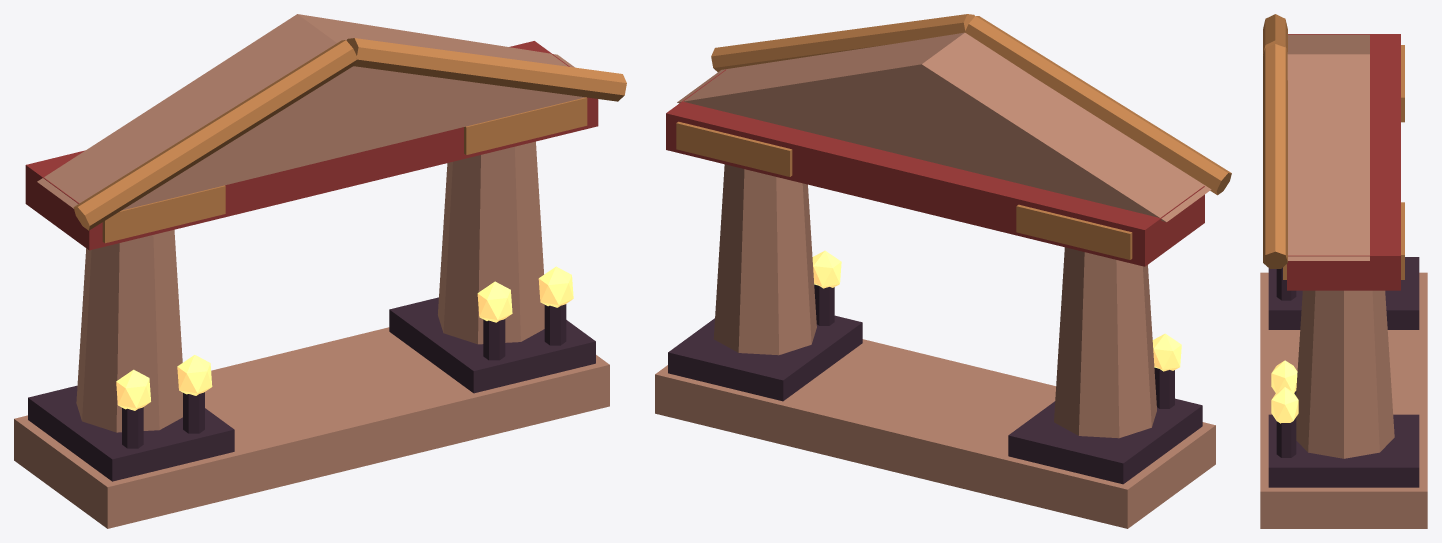
File: gate_rome.glb
The picture shows the model from 3 angles, left to right: view 1: azimuth 30°, elevation 25°; view 2: azimuth 150°, elevation 25°; view 3: azimuth 270°, elevation 25°; orthographic projection. The views are drawn at different scales.
Parts seen in each view (by area): view 1: Landmark stone bed, Pediment, Great pier.001, Great pier, Gate lintel, Roof edge, Wall footing.001, Wall footing, Roof edge.001, Pier cornice.001, Pier cornice, Oil lamp.003 (+7 smaller); view 2: Pediment, Landmark stone bed, Gate lintel, Great pier, Great pier.001, Wall footing.001, Wall footing, Roof edge, Roof edge.001, Pier cornice, Pier cornice.001, Oil lamp (+3 smaller); view 3: Pediment, Great pier.001, Landmark stone bed, Gate lintel, Wall footing.001, Roof edge.001, Wall footing, Oil lamp.003, Roof edge, Lantern stand.003, Oil lamp.002, Lantern stand.001 (+2 smaller).
Boxes of the visible parts, <box> form: Landmark stone bed: <box>14,327,609,528</box>; Pediment: <box>37,14,584,210</box>; Great pier.001: <box>438,141,544,344</box>; Great pier: <box>76,229,182,432</box>; Gate lintel: <box>25,41,598,250</box>; Roof edge: <box>73,40,357,230</box>; Wall footing.001: <box>389,297,595,393</box>; Wall footing: <box>28,385,234,481</box>; Roof edge.001: <box>346,38,626,101</box>; Pier cornice.001: <box>464,97,587,154</box>; Pier cornice: <box>102,185,225,243</box>; Oil lamp.003: <box>538,266,573,307</box>; Pediment: <box>677,32,1211,222</box>; Landmark stone bed: <box>655,339,1215,528</box>; Gate lintel: <box>666,69,1204,266</box>; Great pier: <box>1054,247,1156,438</box>; Great pier.001: <box>713,164,816,355</box>; Wall footing.001: <box>668,315,862,401</box>; Wall footing: <box>1008,398,1202,484</box>; Roof edge: <box>964,16,1231,195</box>; Roof edge.001: <box>711,14,974,71</box>; Pier cornice: <box>1016,204,1132,259</box>; Pier cornice.001: <box>676,121,792,176</box>; Oil lamp: <box>1152,333,1181,371</box>; Pediment: <box>1287,34,1369,260</box>; Great pier.001: <box>1296,290,1394,458</box>; Landmark stone bed: <box>1260,272,1427,528</box>; Gate lintel: <box>1287,34,1400,290</box>; Wall footing.001: <box>1268,414,1419,487</box>; Roof edge.001: <box>1263,44,1287,268</box>; Wall footing: <box>1268,257,1419,329</box>; Oil lamp.003: <box>1271,387,1298,423</box>; Roof edge: <box>1263,14,1287,53</box>; Lantern stand.003: <box>1276,417,1296,457</box>; Oil lamp.002: <box>1271,360,1297,392</box>; Lantern stand.001: <box>1276,267,1296,300</box>.
Bounding box in the file's own units: 4.1 × 3.04 × 1.22.
